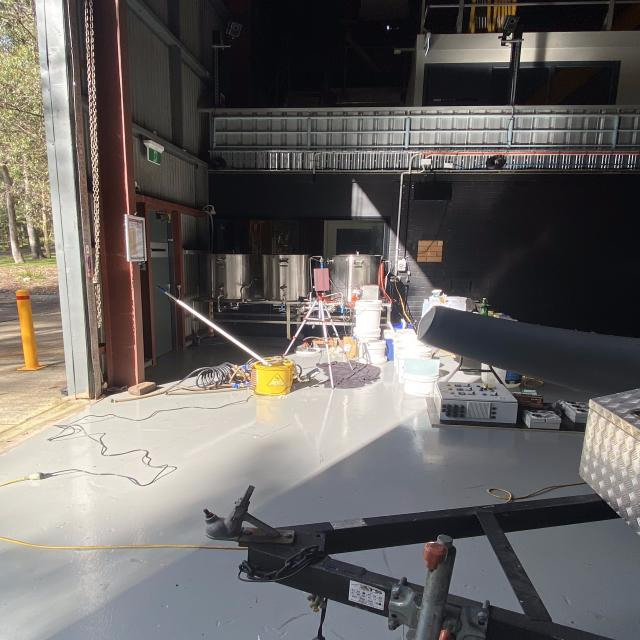matrix: (313, 268, 332, 292)
